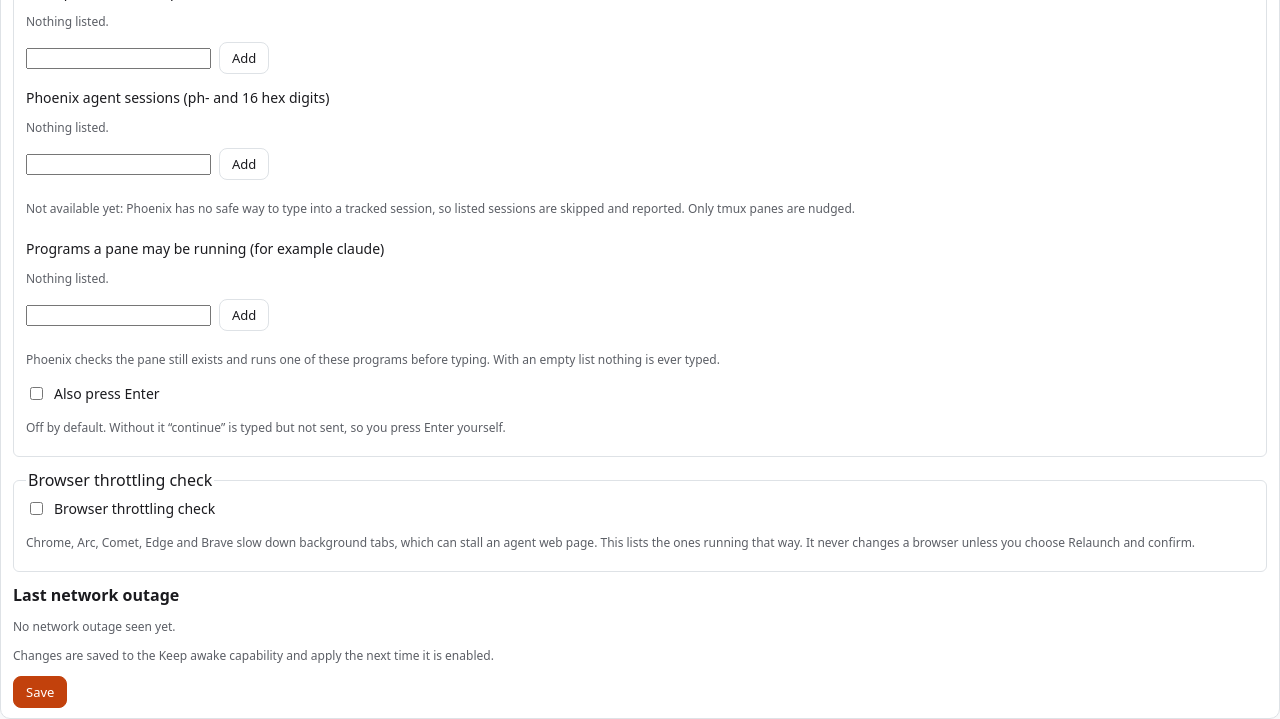
it: Continuity settings › turning one on and saving sends only that switch and keeps the others off and Enter off
(page scrolled)
Click the checkbox labelled "Browser throttling check" at (36, 508), box [30,502,43,515]
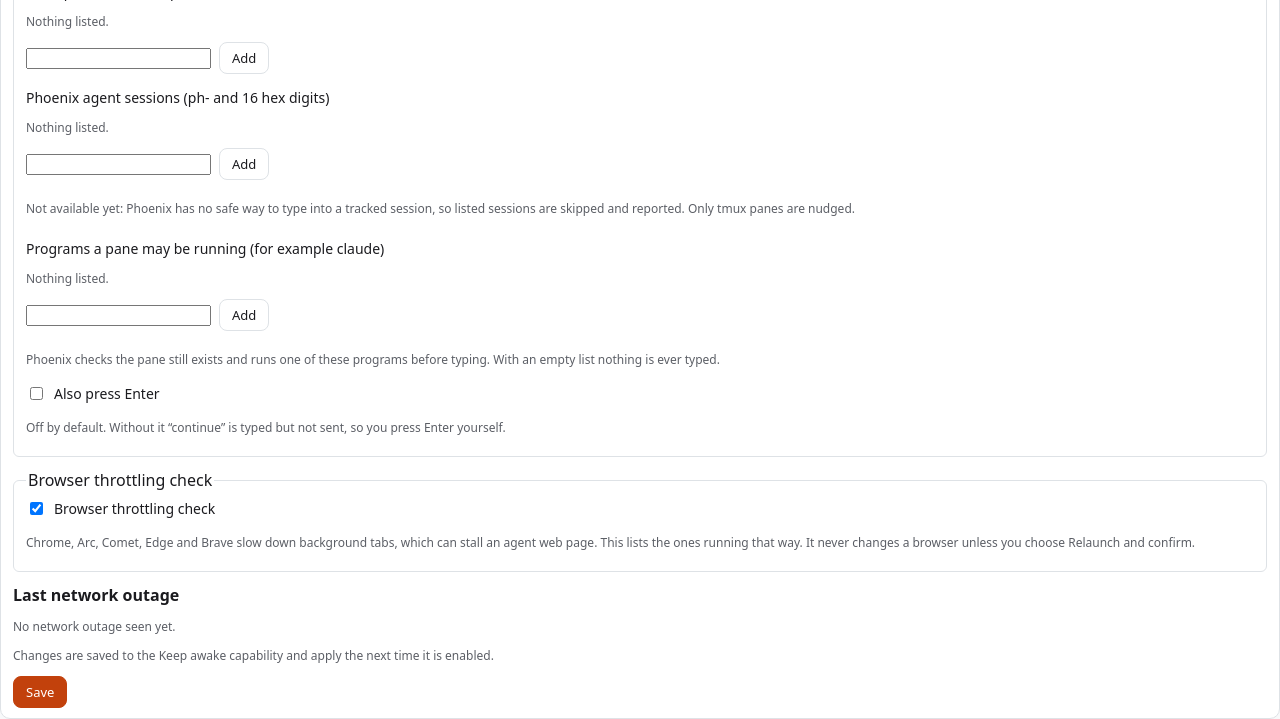
Click the button "Save" at (40, 692), box [13,676,67,708]
(page scrolled)
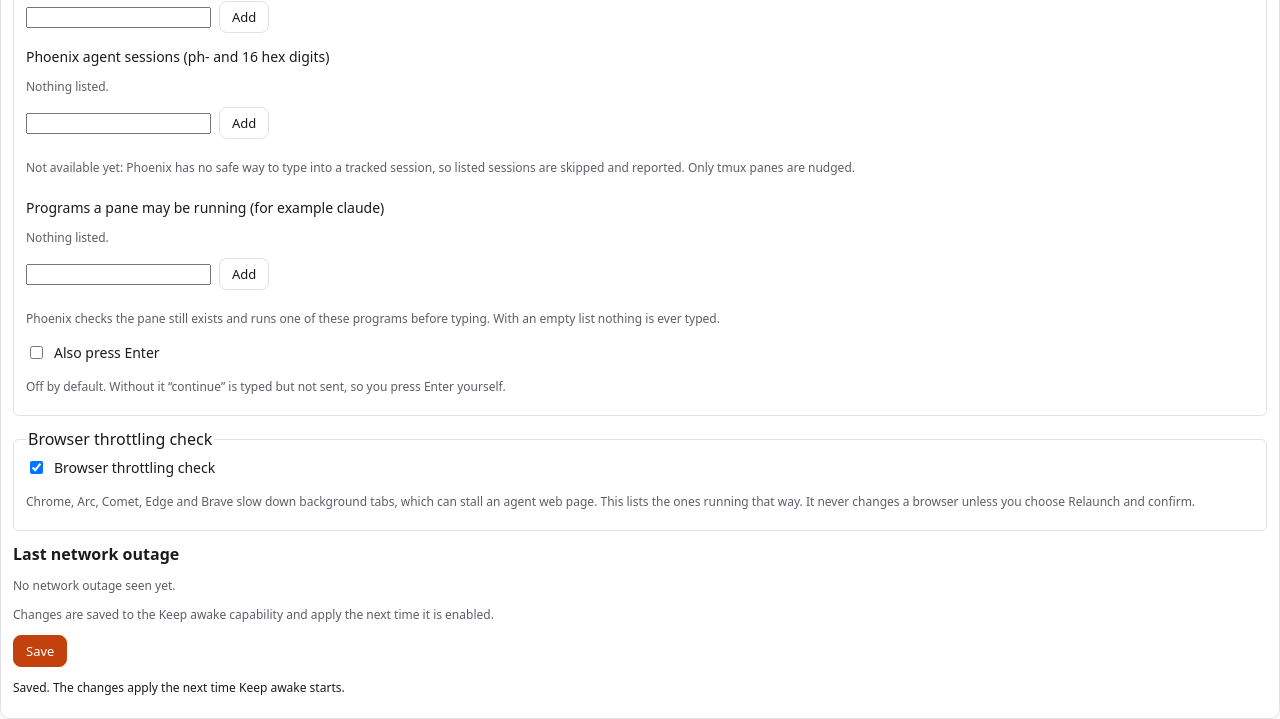
Check: the text "Saved. The changes apply the next time Keep awake starts." is shown, box [13,679,345,696]
